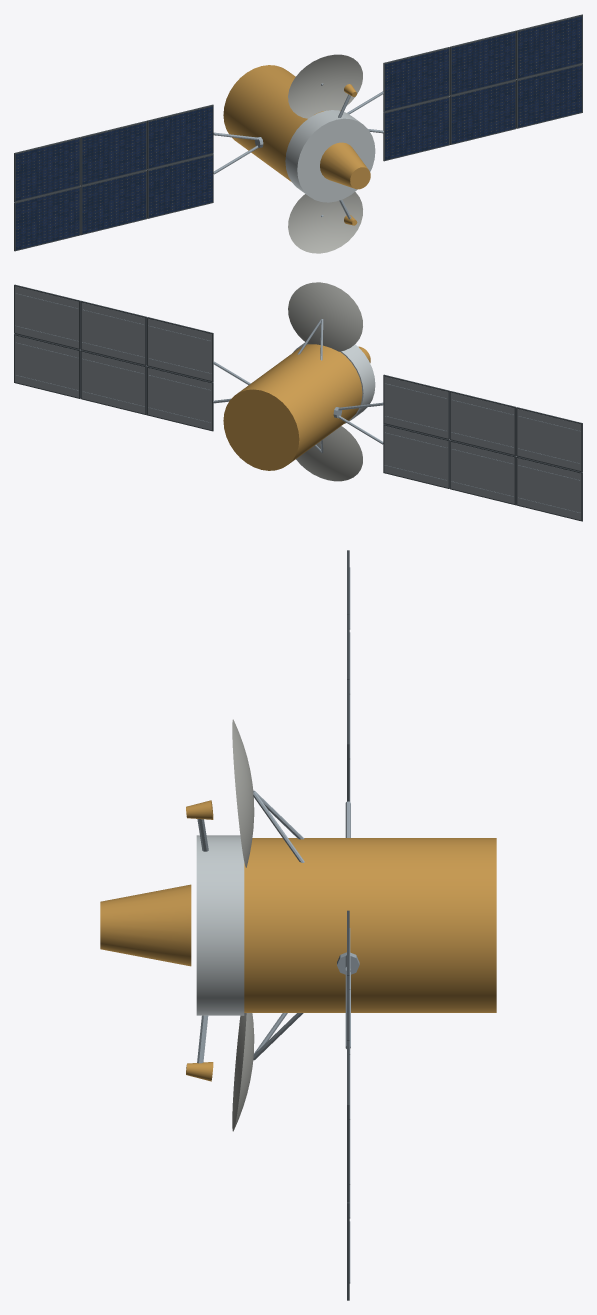
File: ref-mss-2500-01gso-26243.glb
3 views of the same model, one above another, from view 1: azimuth 30°, elevation 25°; view 2: azimuth 150°, elevation 25°; view 3: azimuth 270°, elevation 25° (orthographic). The views are drawn at different scales.
Visible parts, largest first — view 1: Solar cell panel (×12), Communications reflector (×2), Service barrel, Solar panel frame (×12), Equipment flange, Axial antenna horn; view 2: Rear array substrate (×12), Service barrel, Communications reflector (×2), Solar panel frame (×12), Equipment flange; view 3: Service barrel, Equipment flange, Axial antenna horn, Communications reflector (×2).
Boxes of the visible parts, x1,y1,x2,y2 form: Solar cell panel (×12): [15, 16, 581, 249]; Communications reflector (×2): [288, 54, 362, 253]; Service barrel: [223, 65, 340, 181]; Solar panel frame (×12): [14, 14, 582, 251]; Equipment flange: [285, 110, 375, 202]; Axial antenna horn: [320, 142, 370, 189]; Rear array substrate (×12): [15, 286, 581, 520]; Service barrel: [223, 344, 362, 470]; Communications reflector (×2): [288, 282, 362, 481]; Solar panel frame (×12): [14, 284, 582, 521]; Equipment flange: [293, 342, 375, 423]; Service barrel: [244, 838, 496, 1012]; Equipment flange: [196, 835, 244, 1015]; Axial antenna horn: [100, 884, 191, 966]; Communications reflector (×2): [232, 719, 254, 1131].
Bounding box in the file's own units: 26.97 × 8.91 × 8.14.
7 materials, 1 textured.
